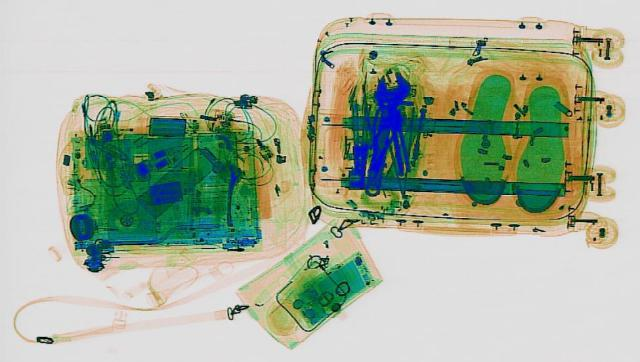Wrench: (352, 70, 412, 196)
